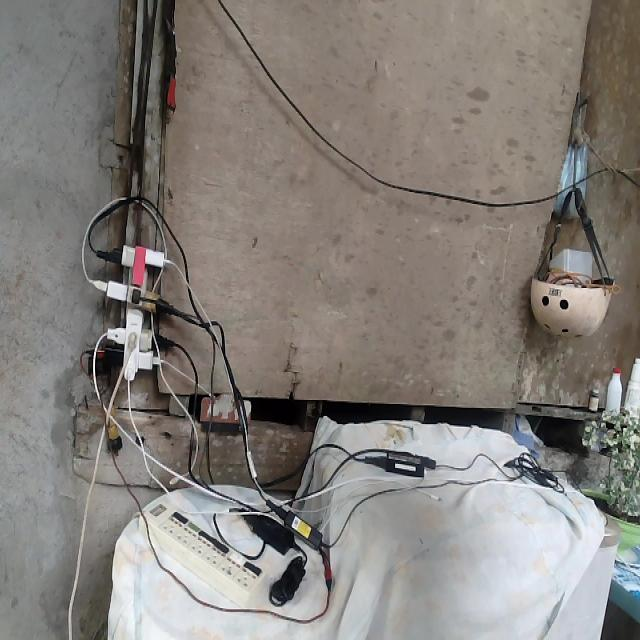-: (80, 242, 183, 382)
